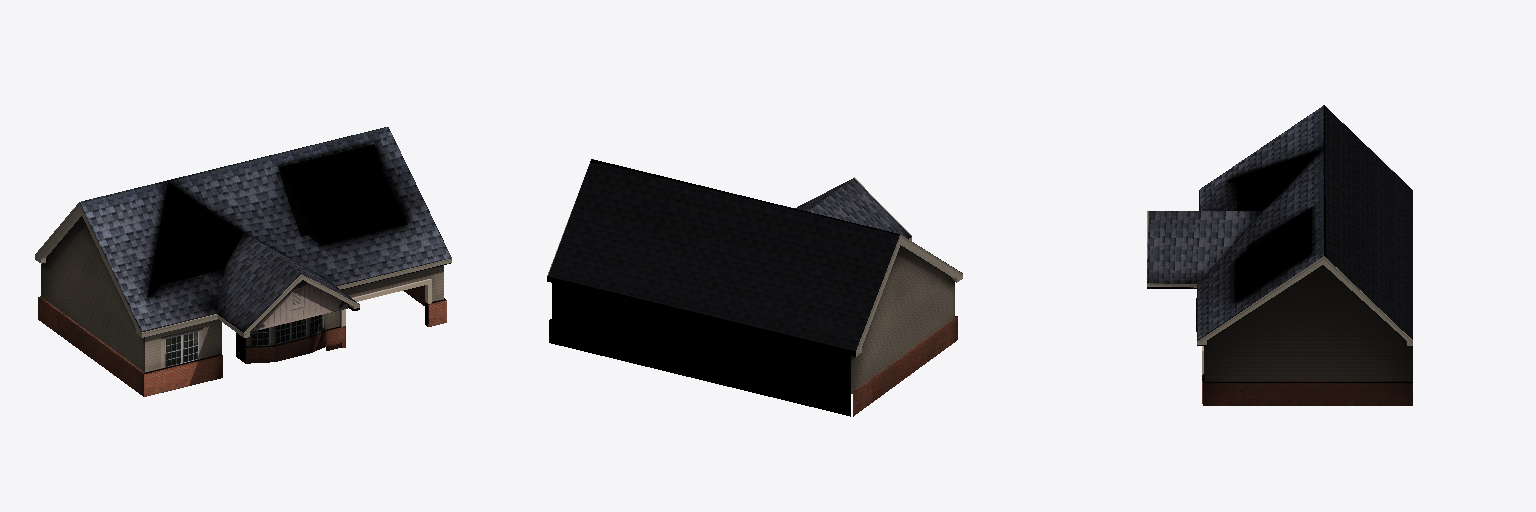
The picture shows the model from 3 angles: view 1: azimuth 30°, elevation 25°; view 2: azimuth 150°, elevation 25°; view 3: azimuth 270°, elevation 25°; orthographic projection.
Parts seen in each view (by area): view 1: houseMain1; view 2: houseMain1; view 3: houseMain1.
Boxes of the visible parts, x1,y1,x2,y2 form: houseMain1: [35, 127, 451, 396]; houseMain1: [547, 159, 962, 416]; houseMain1: [1147, 105, 1412, 405].
Size of the model in its own units: 16.13 by 7.54 by 12.
1 materials, 1 textured.